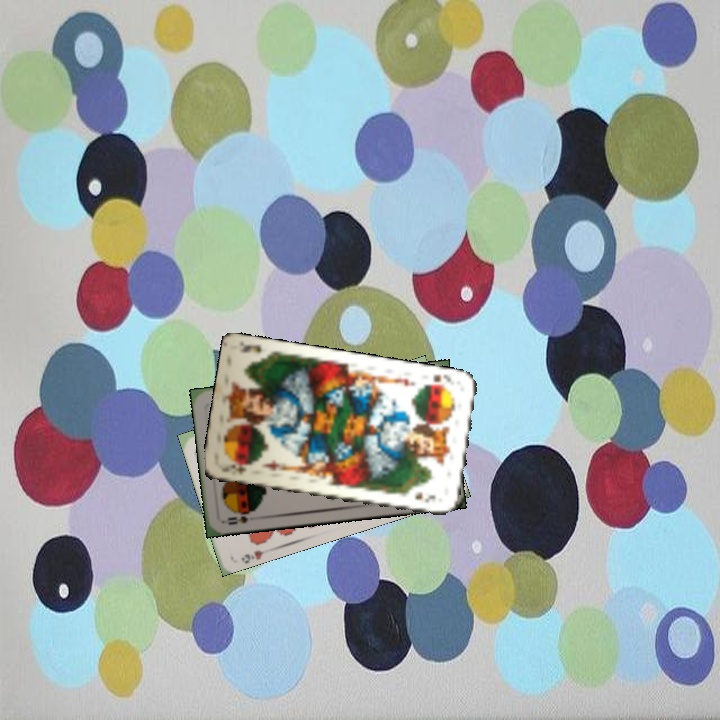H9: (237, 546, 266, 565)
SK: (421, 370, 453, 391), (224, 459, 257, 477)
SO: (220, 507, 258, 527)
